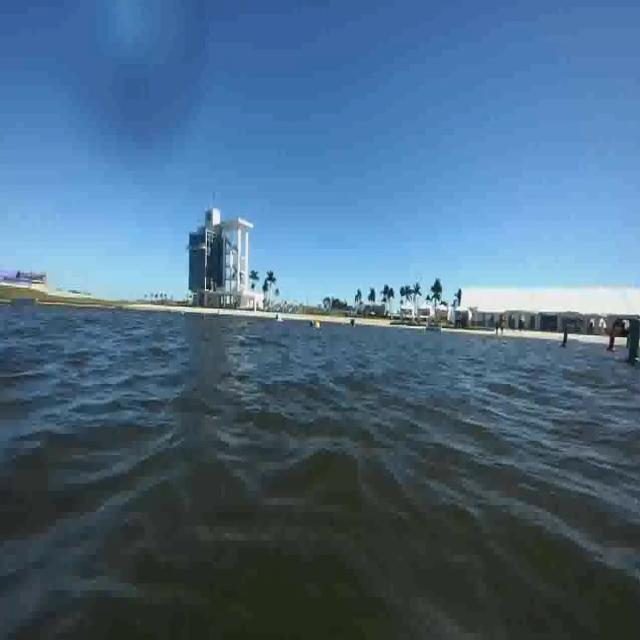green-column-buoy: (624, 317, 640, 368)
red-column-buoy: (608, 324, 620, 355)
yellow-buoy: (315, 319, 321, 330)
